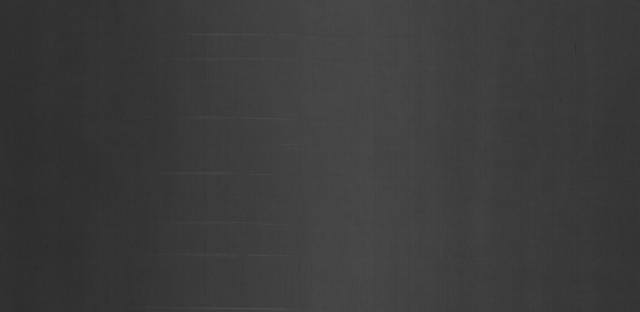waist_folding: (93, 35, 293, 295)
